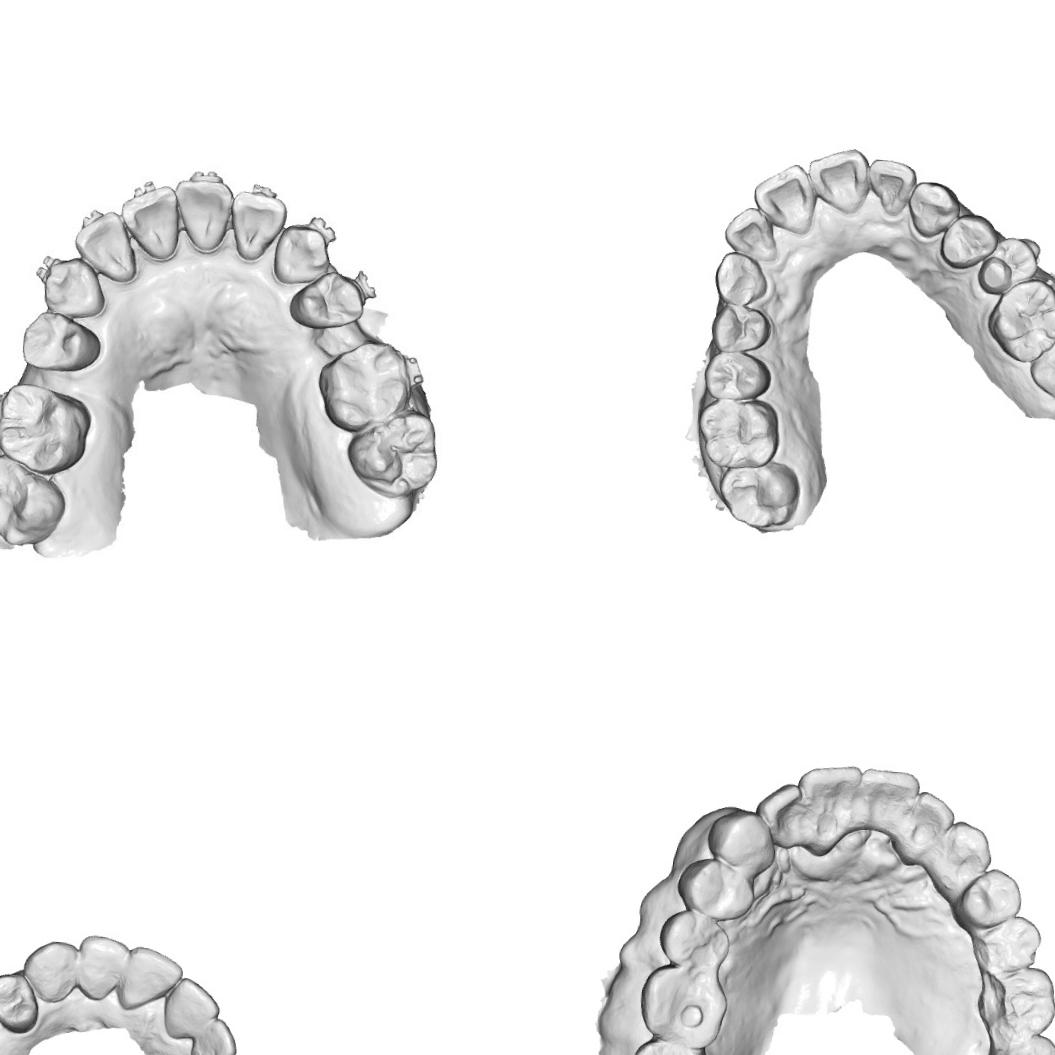canine: (34, 251, 112, 323), (706, 808, 776, 876), (20, 934, 80, 1008), (934, 818, 994, 890), (269, 222, 333, 289), (710, 249, 772, 308), (904, 178, 962, 240)
incisor: (792, 762, 859, 854), (748, 158, 818, 236), (170, 174, 236, 256), (70, 207, 140, 284), (115, 181, 181, 261), (116, 943, 186, 1016), (803, 144, 871, 218), (856, 764, 921, 838), (226, 188, 289, 264), (68, 932, 132, 1006), (158, 974, 222, 1042), (719, 203, 782, 264), (903, 788, 956, 857), (864, 156, 918, 218), (756, 780, 802, 848), (187, 1014, 242, 1055)
molar: (312, 336, 414, 436), (343, 405, 443, 504), (0, 379, 96, 477), (633, 962, 728, 1050), (691, 396, 783, 473), (0, 454, 71, 551), (714, 456, 802, 532), (984, 275, 1055, 366), (973, 962, 1055, 1040), (1026, 316, 1055, 409), (978, 1030, 1055, 1055), (625, 1037, 714, 1055)
premolar: (17, 308, 104, 378), (674, 854, 758, 926), (284, 267, 368, 333), (652, 905, 729, 972), (971, 910, 1044, 979), (958, 865, 1024, 932), (975, 233, 1039, 297), (700, 350, 774, 404), (937, 210, 998, 274), (706, 300, 774, 356), (0, 968, 39, 1035)
